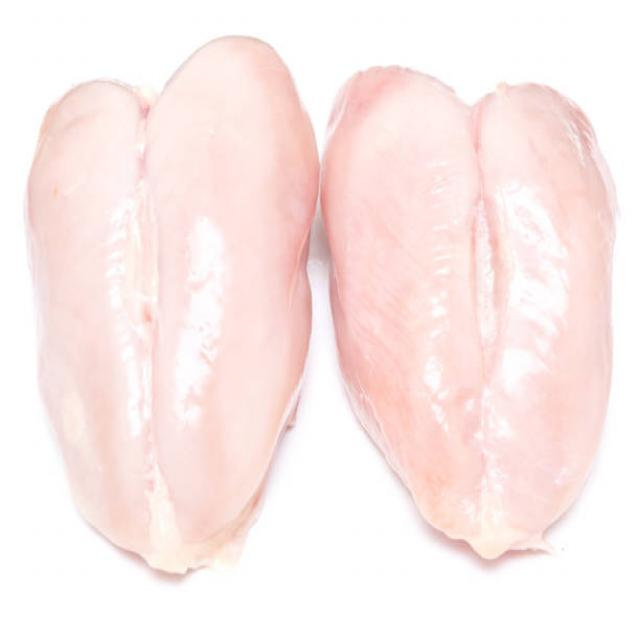chicken breast: (10, 36, 313, 562), (320, 62, 612, 574)
